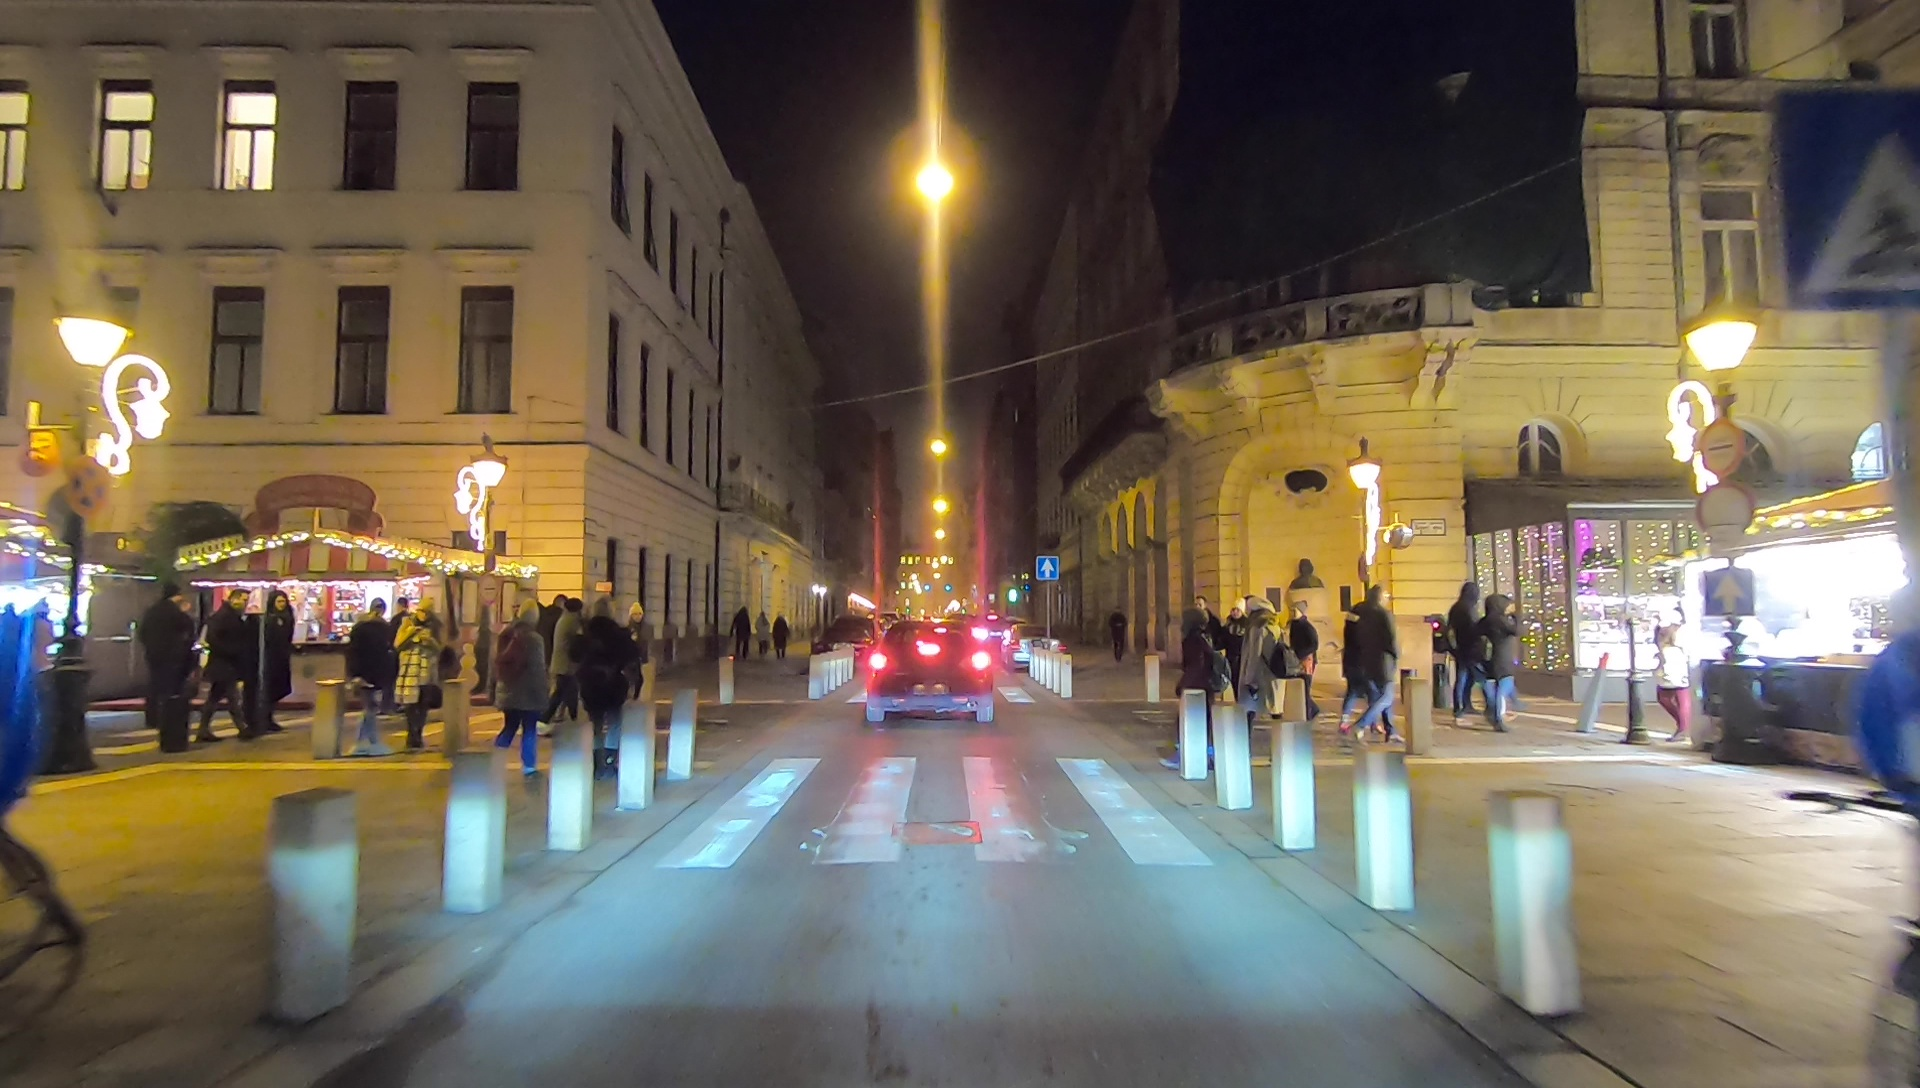person: (586, 599, 639, 776), (501, 597, 551, 787), (1354, 584, 1404, 745), (145, 591, 193, 754), (206, 587, 256, 741), (352, 602, 397, 761), (1247, 597, 1291, 752), (399, 600, 443, 750), (551, 587, 595, 728), (1341, 595, 1382, 743), (1443, 584, 1486, 721), (1482, 597, 1523, 728), (260, 587, 293, 739), (1284, 606, 1326, 719), (1182, 599, 1219, 706), (1223, 604, 1252, 713), (728, 608, 751, 663), (1106, 606, 1130, 660), (771, 617, 789, 663)
